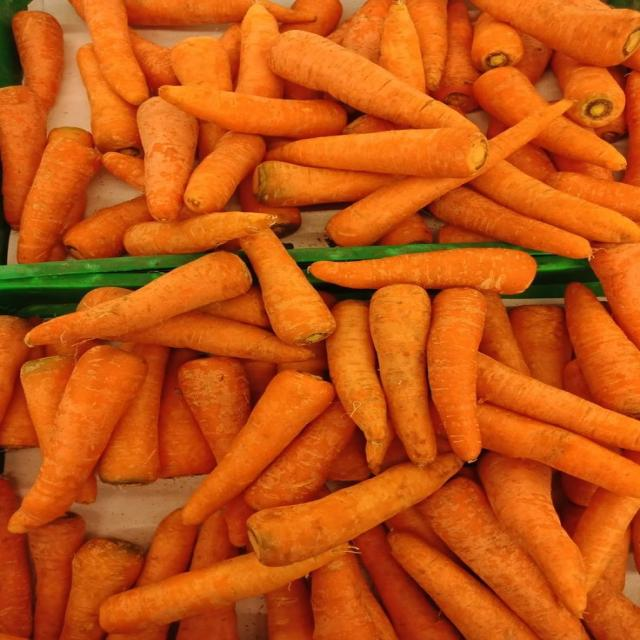carrot: (425, 477, 586, 639), (10, 346, 146, 532), (248, 454, 461, 565), (183, 371, 333, 523), (26, 252, 251, 345), (100, 547, 346, 632), (270, 31, 473, 127), (479, 452, 588, 617), (388, 532, 537, 639), (477, 355, 639, 450), (478, 403, 639, 497), (471, 162, 639, 242), (369, 284, 436, 465), (244, 402, 355, 509), (354, 526, 459, 639), (429, 187, 592, 258), (327, 301, 393, 472), (240, 229, 335, 345), (18, 128, 99, 263), (267, 128, 487, 177), (476, 0, 639, 66), (309, 248, 535, 294), (427, 288, 486, 461), (565, 283, 639, 417), (98, 345, 169, 484), (160, 85, 346, 138), (119, 312, 312, 362), (327, 177, 467, 245), (60, 539, 143, 639), (178, 357, 250, 462), (137, 98, 198, 221), (158, 349, 215, 477), (76, 44, 141, 156), (28, 513, 85, 639), (83, 0, 149, 105), (573, 488, 639, 591), (120, 212, 275, 255), (253, 161, 399, 206), (184, 132, 265, 213), (0, 87, 46, 228), (20, 355, 80, 457), (312, 554, 380, 639), (64, 196, 153, 259), (552, 51, 625, 127), (0, 476, 33, 637), (510, 305, 572, 388), (12, 11, 63, 111), (590, 244, 639, 348), (434, 0, 479, 112), (134, 509, 198, 587), (534, 117, 626, 169), (235, 4, 283, 98), (547, 172, 639, 221), (379, 0, 426, 91), (386, 502, 458, 561), (237, 172, 301, 238), (480, 293, 529, 375), (407, 0, 447, 91), (171, 37, 233, 91), (125, 0, 253, 26), (129, 29, 179, 94), (585, 581, 639, 639), (342, 0, 391, 63), (0, 316, 29, 420), (199, 286, 270, 328), (472, 13, 523, 71), (47, 190, 87, 262), (266, 579, 313, 639), (0, 377, 38, 449), (0, 380, 38, 449), (328, 430, 371, 482), (280, 0, 342, 36), (177, 603, 238, 639), (601, 527, 631, 593), (277, 341, 328, 379), (515, 32, 552, 84), (506, 144, 555, 182), (623, 71, 639, 185), (377, 214, 433, 245), (102, 152, 145, 192), (552, 154, 613, 182), (223, 495, 253, 548), (561, 359, 593, 401), (563, 359, 593, 401), (44, 340, 103, 361), (219, 24, 240, 82), (560, 474, 597, 506), (438, 224, 496, 243), (380, 434, 409, 471), (342, 114, 395, 134), (594, 111, 627, 143), (47, 127, 94, 146), (560, 503, 585, 536), (327, 17, 353, 45), (631, 514, 639, 571), (0, 633, 27, 639)
